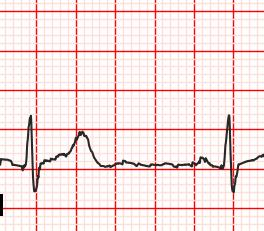ST Depression: (208, 154, 245, 194), (12, 158, 48, 198)
